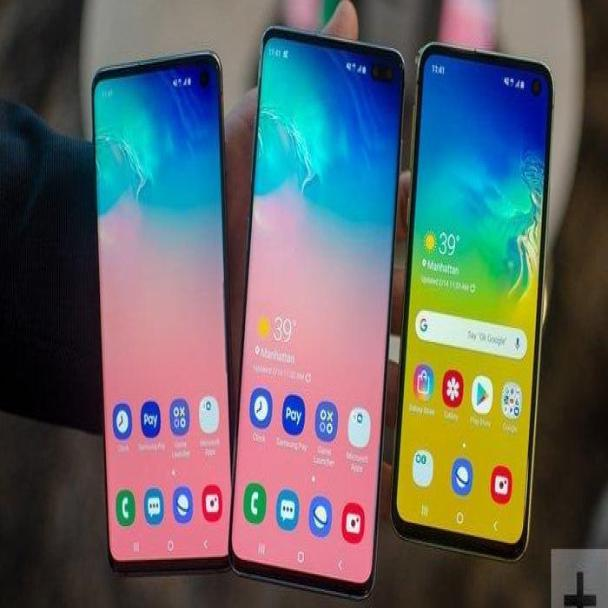Handphone: (238, 29, 405, 598), (394, 49, 556, 546), (94, 52, 231, 568)
